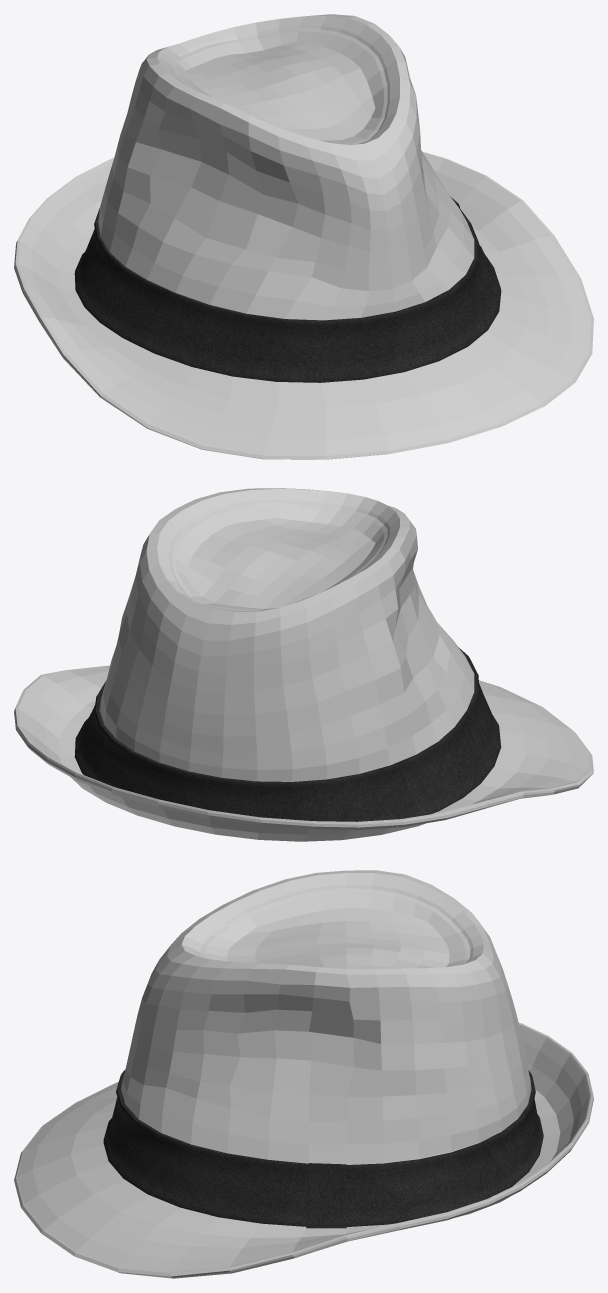
File: cal_hat.fbx
3 views of the same model, one above another, from view 1: azimuth 30°, elevation 25°; view 2: azimuth 150°, elevation 25°; view 3: azimuth 270°, elevation 25° (orthographic).
Parts seen in each view (by area): view 1: Hat, Hat.001, Brimmed hat; view 2: Hat, Hat.001, Brimmed hat; view 3: Hat, Hat.001, Brimmed hat.
Boxes of the visible parts, x1,y1,x2,y2 form: Hat: (14, 14, 593, 459); Hat.001: (18, 14, 587, 459); Brimmed hat: (74, 196, 501, 382); Hat: (14, 488, 593, 841); Hat.001: (18, 488, 593, 841); Brimmed hat: (74, 647, 501, 821); Hat: (14, 870, 593, 1278); Hat.001: (15, 870, 588, 1277); Brimmed hat: (103, 1070, 543, 1228).
Bounding box in the file's own units: 31.37 × 16.07 × 32.29.
